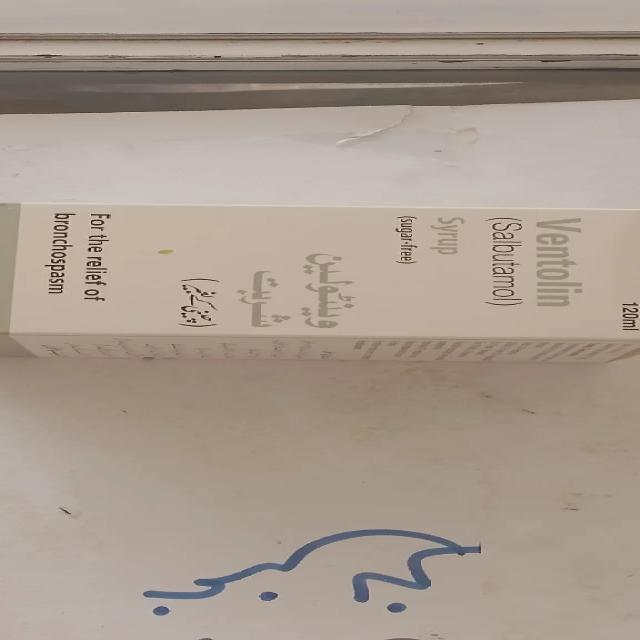drug-name: (532, 213, 588, 311)
